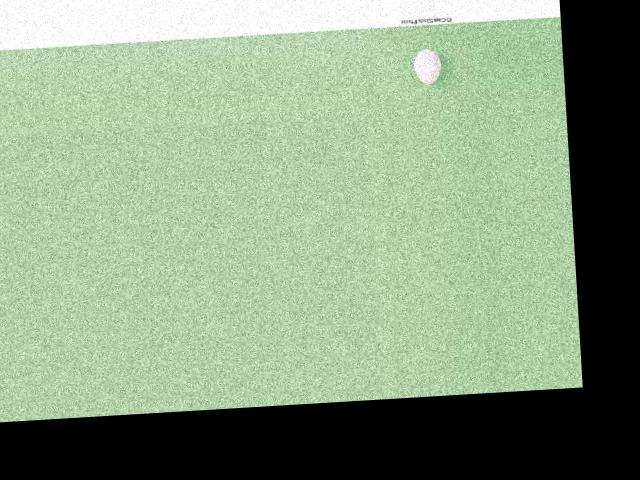egg: (412, 48, 441, 84)
